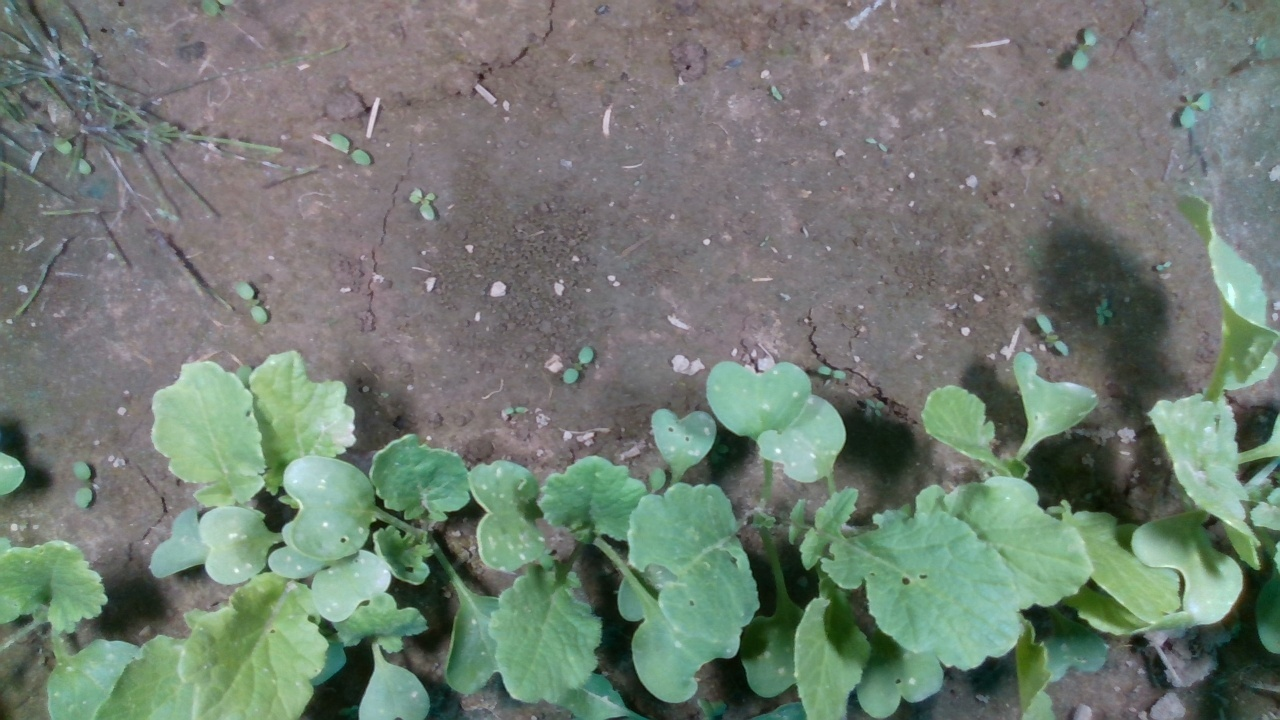weed: (1033, 313, 1069, 357), (328, 131, 371, 167), (233, 281, 268, 325), (1069, 24, 1099, 72), (1179, 90, 1213, 130), (562, 345, 594, 384), (406, 186, 437, 222), (71, 459, 93, 509), (1093, 296, 1115, 328)
